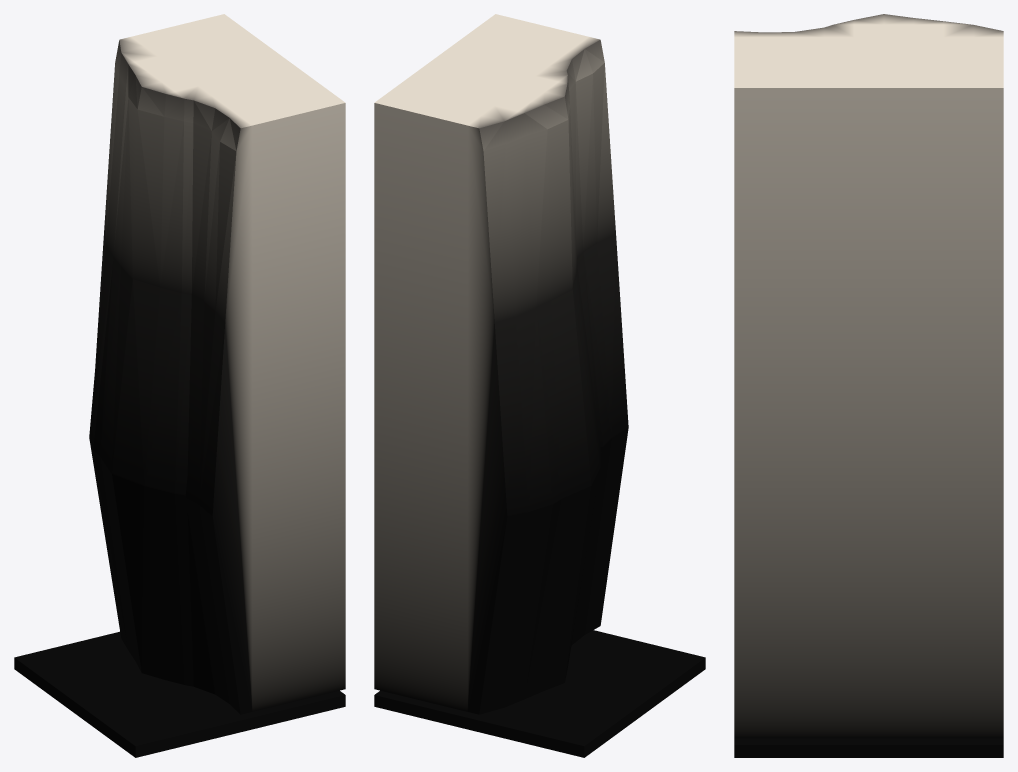
The model's file is SM_VKI_Ground_Cave_XOOX_Q10.fbx.
3 renders of one model, left to right at view 1: azimuth 30°, elevation 25°; view 2: azimuth 150°, elevation 25°; view 3: azimuth 270°, elevation 25°, orthographic. The views are drawn at different scales.
Visible parts, largest first — view 1: SM_VKI_Ground_Cave_XOOX_Q10.001; view 2: SM_VKI_Ground_Cave_XOOX_Q10.001; view 3: SM_VKI_Ground_Cave_XOOX_Q10.001.
Boxes of the visible parts, x1,y1,x2,y2 form: SM_VKI_Ground_Cave_XOOX_Q10.001: [14, 14, 345, 757]; SM_VKI_Ground_Cave_XOOX_Q10.001: [374, 14, 705, 757]; SM_VKI_Ground_Cave_XOOX_Q10.001: [734, 14, 1003, 757].
Bounding box in the file's own units: 1.5 × 4.12 × 1.5.
